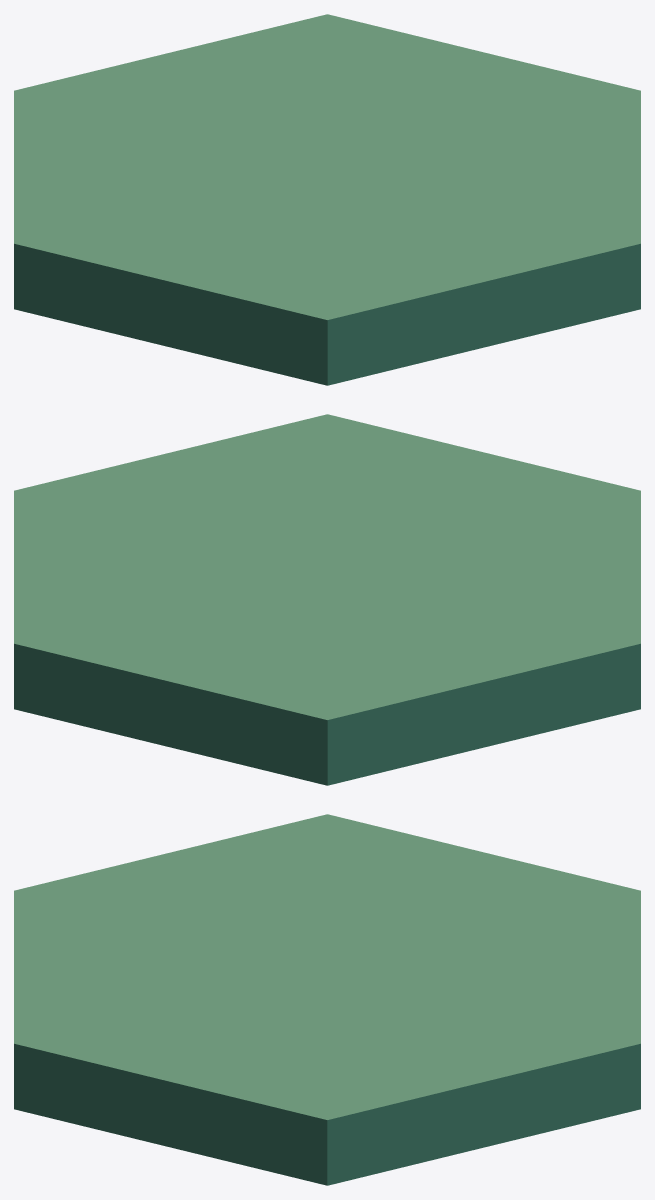
Rendered from terrain.glb.
3 renders of one model, top to bottom at view 1: azimuth 30°, elevation 25°; view 2: azimuth 150°, elevation 25°; view 3: azimuth 270°, elevation 25°, orthographic.
Visible parts, largest first — view 1: Tile_谐律之树; view 2: Tile_谐律之树; view 3: Tile_谐律之树.
Boxes of the visible parts, left/top/right/bottom form: Tile_谐律之树: left=14, top=14, right=640, bottom=385; Tile_谐律之树: left=14, top=414, right=640, bottom=785; Tile_谐律之树: left=14, top=814, right=640, bottom=1185.
Bounding box in the file's own units: 2 × 0.2 × 1.73.
